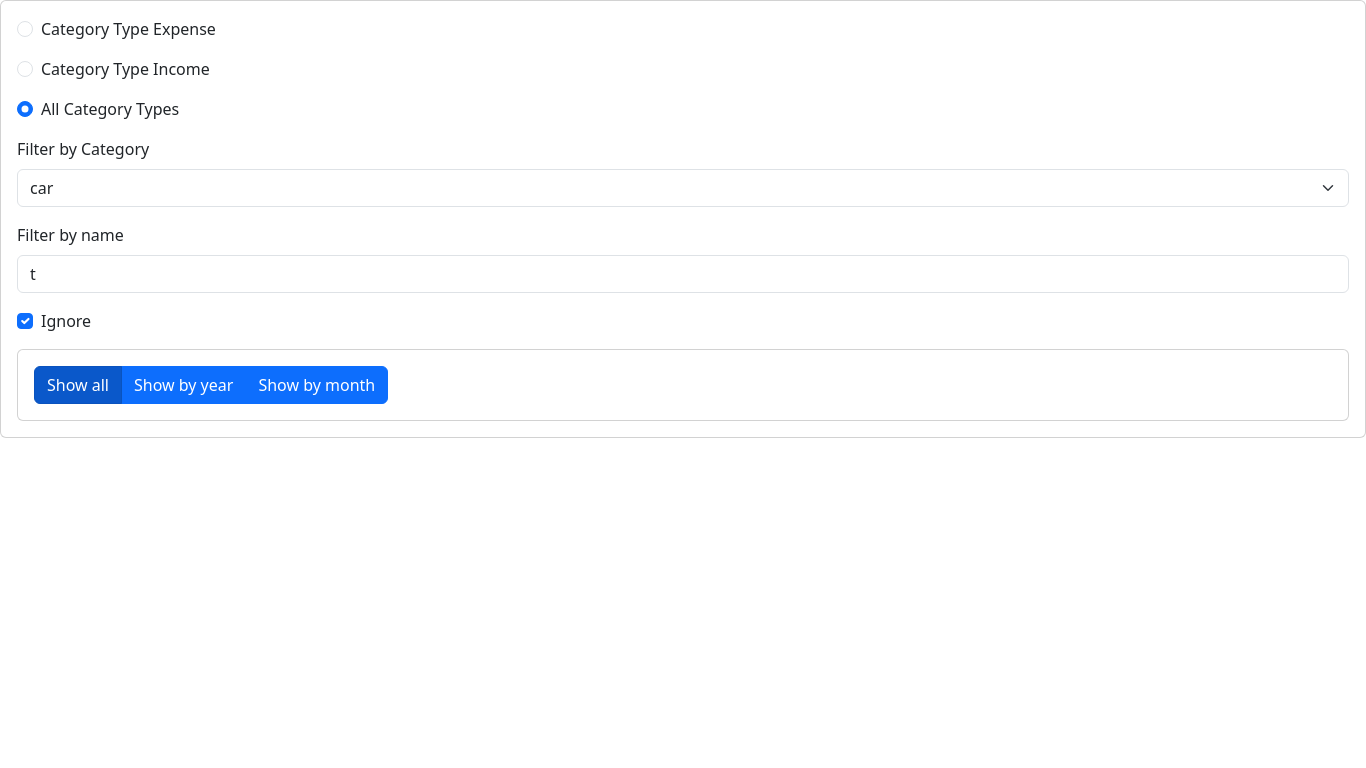
Test: FilterBudgetListForm › If filter type Month should render month filter from.
Click the button "Show by month" at (317, 385), box [245,366,388,404]
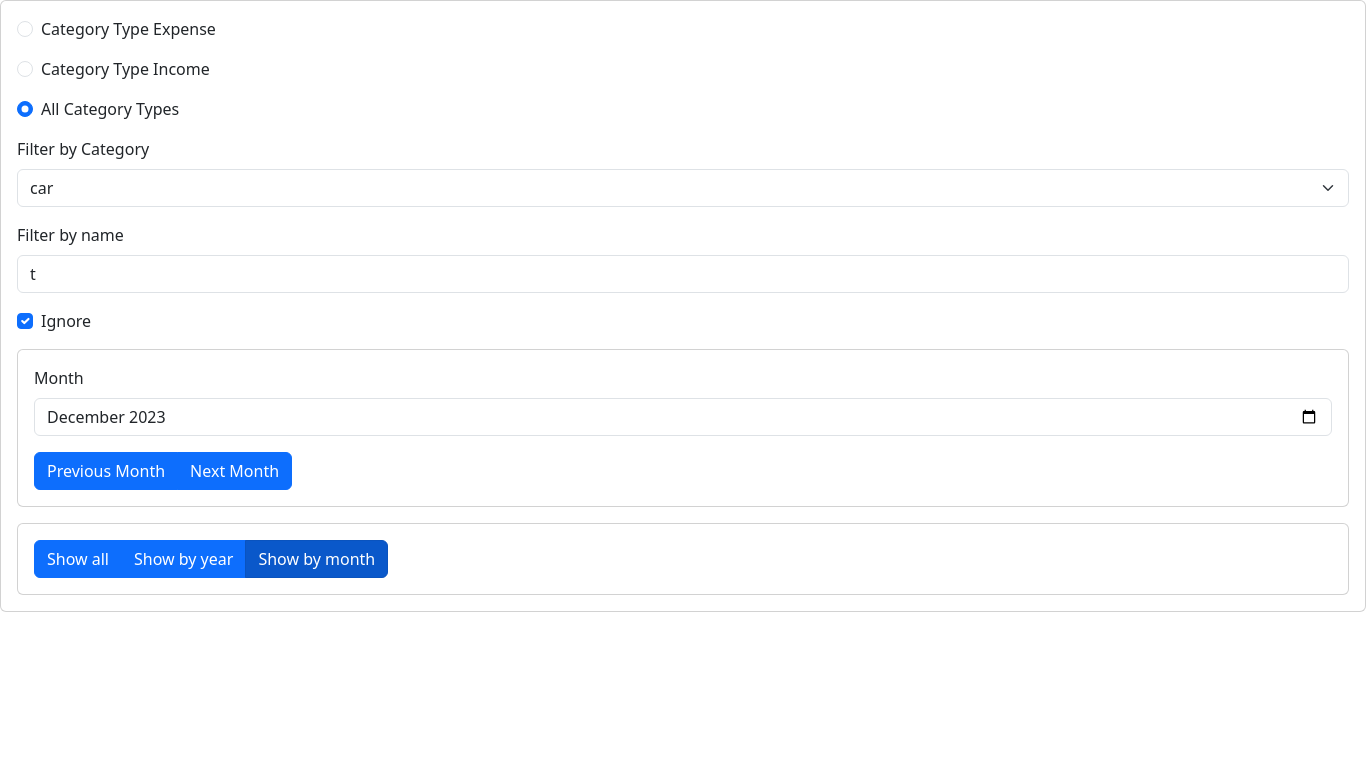
Expected: the field labelled "Month" is shown, [34,398,1332,436]
